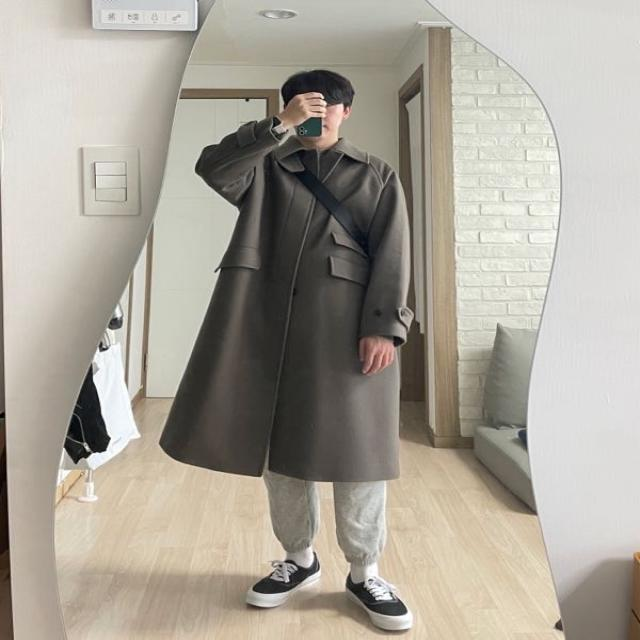coat: (156, 116, 412, 486)
trainingpants: (262, 445, 389, 569)
